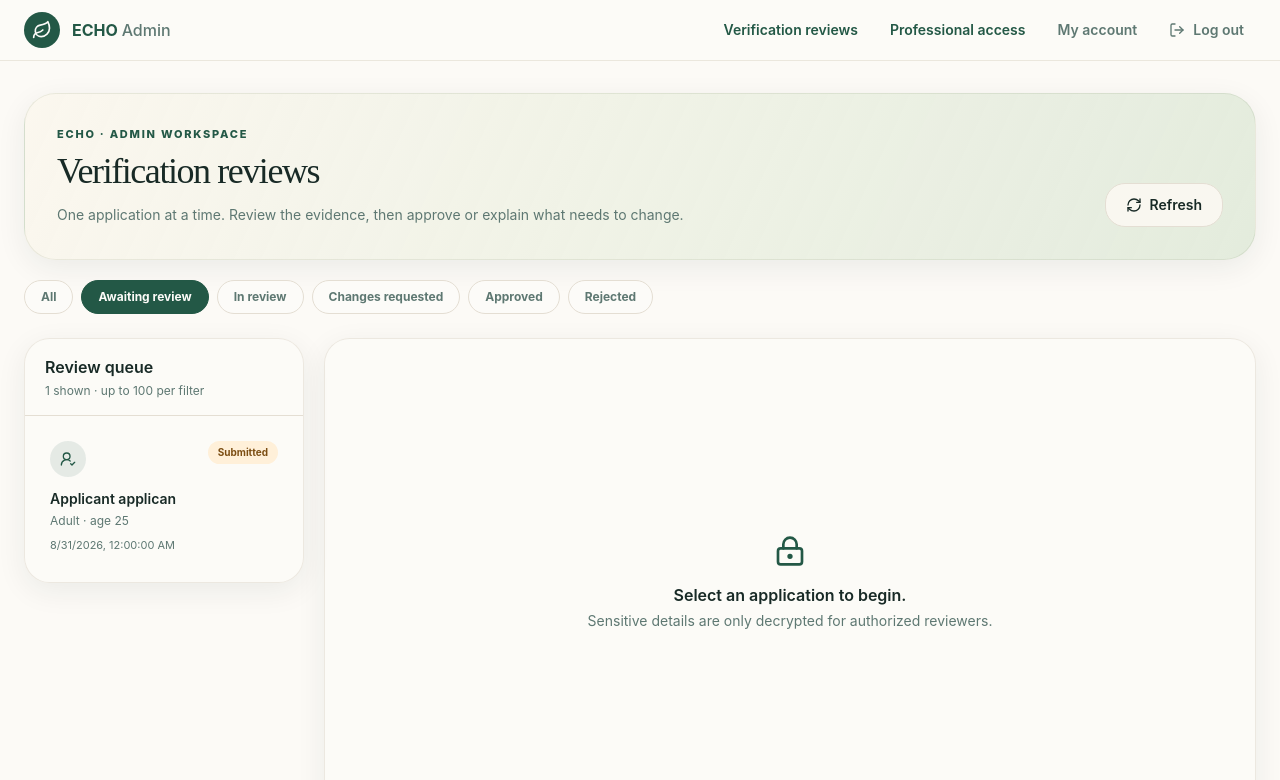
Scenario: Admin verification workspace › shows decision failures without claiming success
This screenshot has width=1280, height=780.
Click the button "Applicant applican" at (164, 497), box [33, 424, 295, 570]
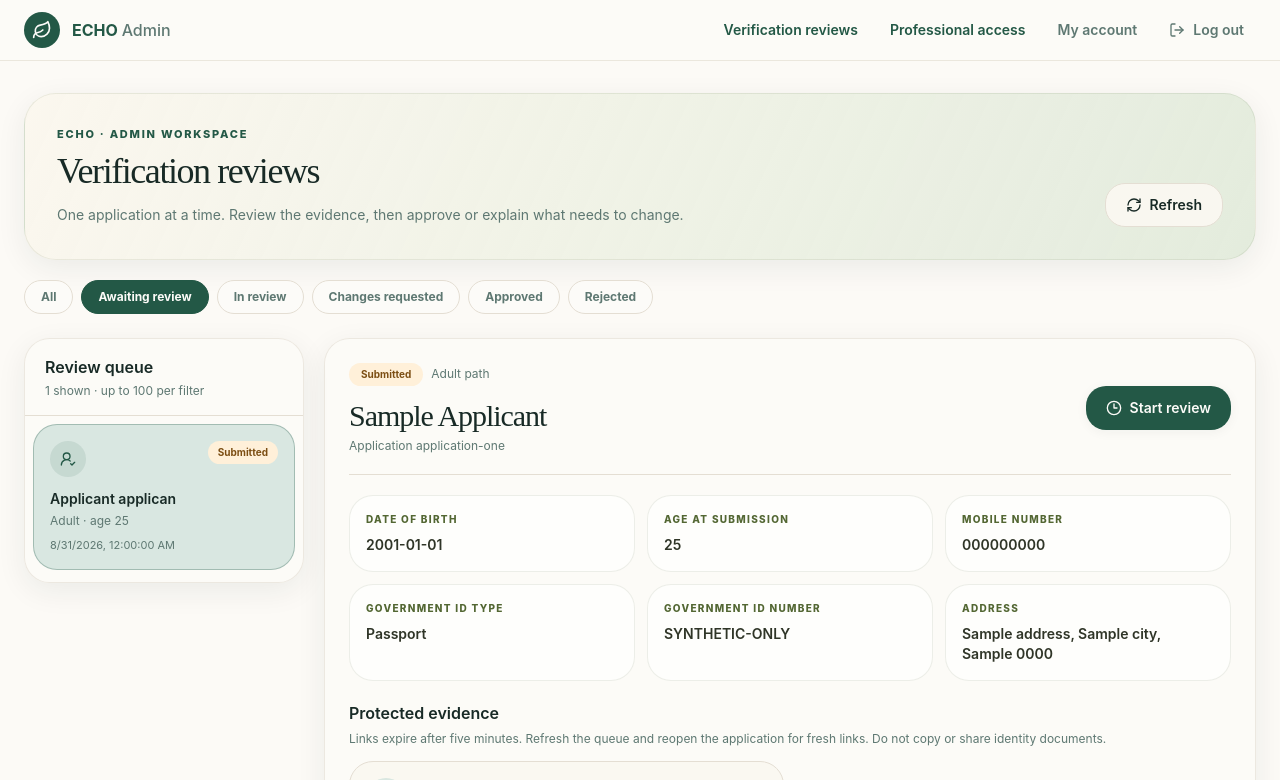
Result: the heading "Sample Applicant" is shown at [349, 398, 546, 434]
Click the button "Start review" at (1158, 408), box [1086, 386, 1231, 430]
(page scrolled)
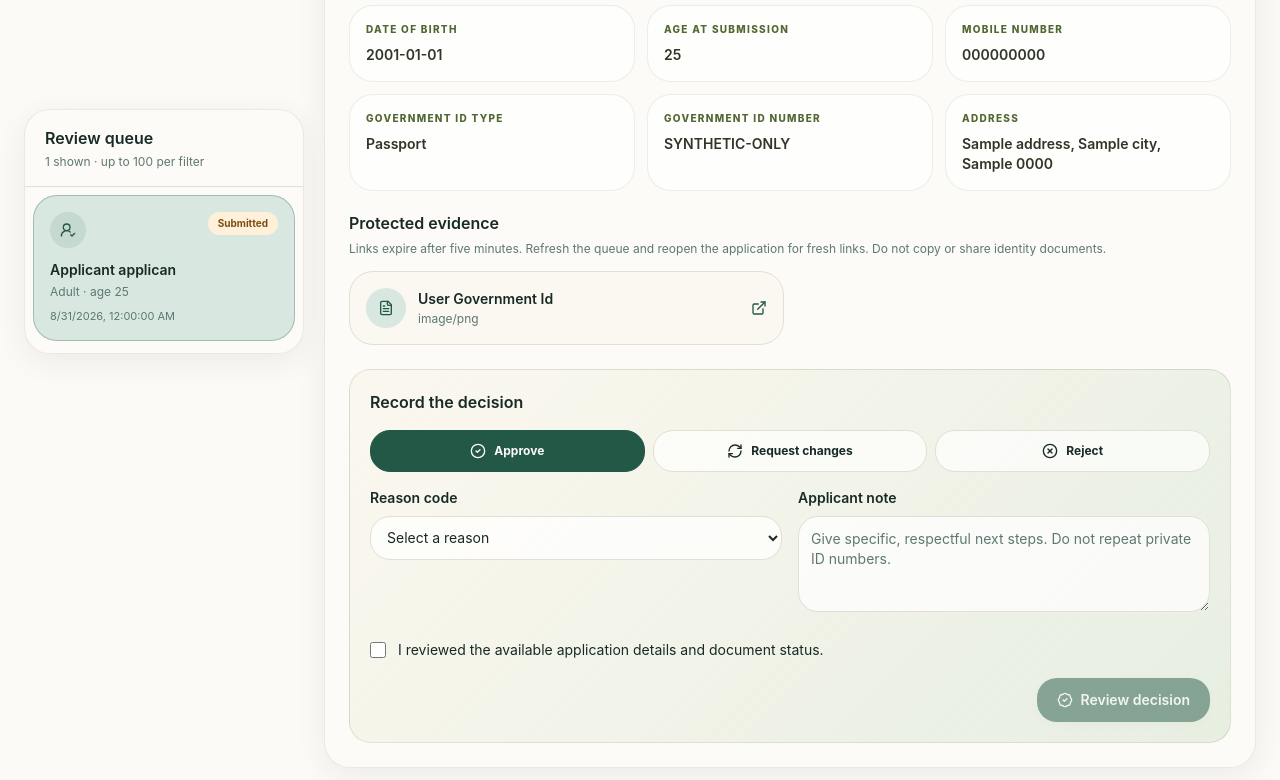
Result: the button "Review decision" is shown at [1036, 678, 1210, 722]
Click the checkbox labelled "I reviewed the available application" at (378, 650), box [370, 642, 386, 658]
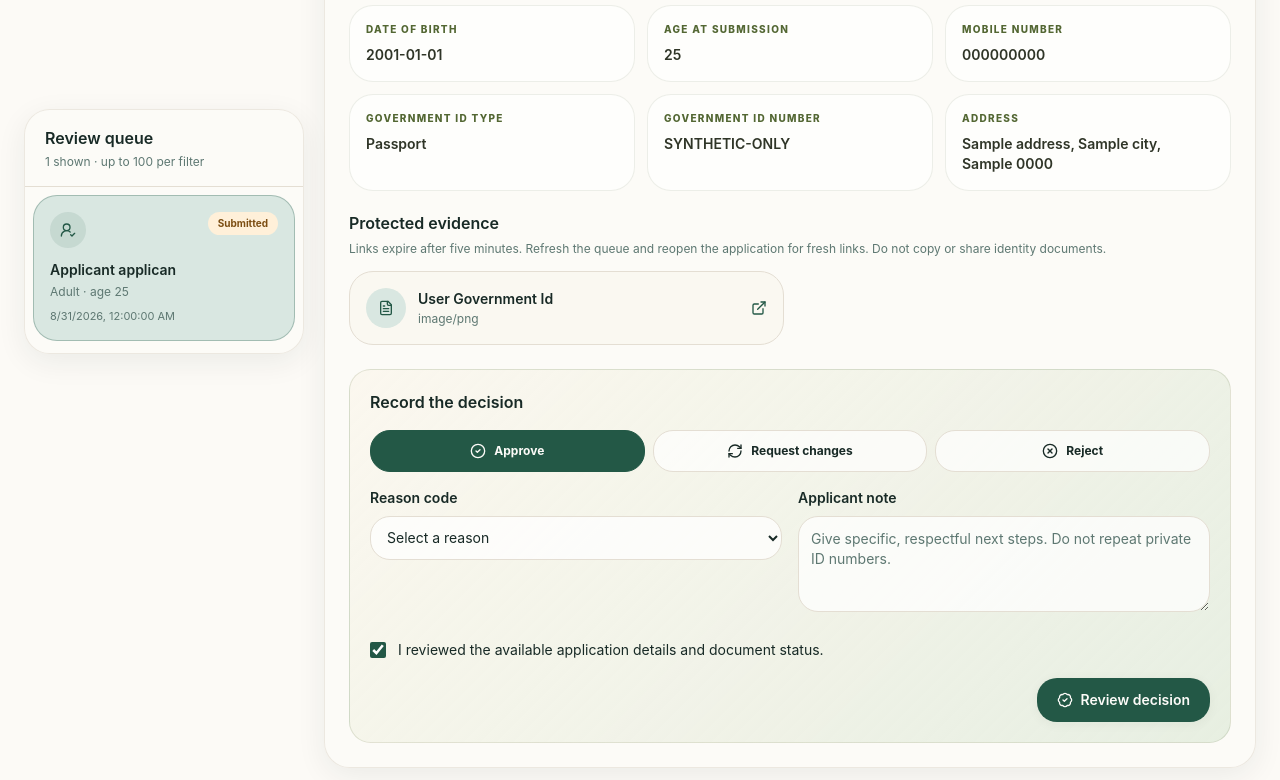
Click the button "Review decision" at (1123, 700), box [1036, 678, 1210, 722]
(page scrolled)
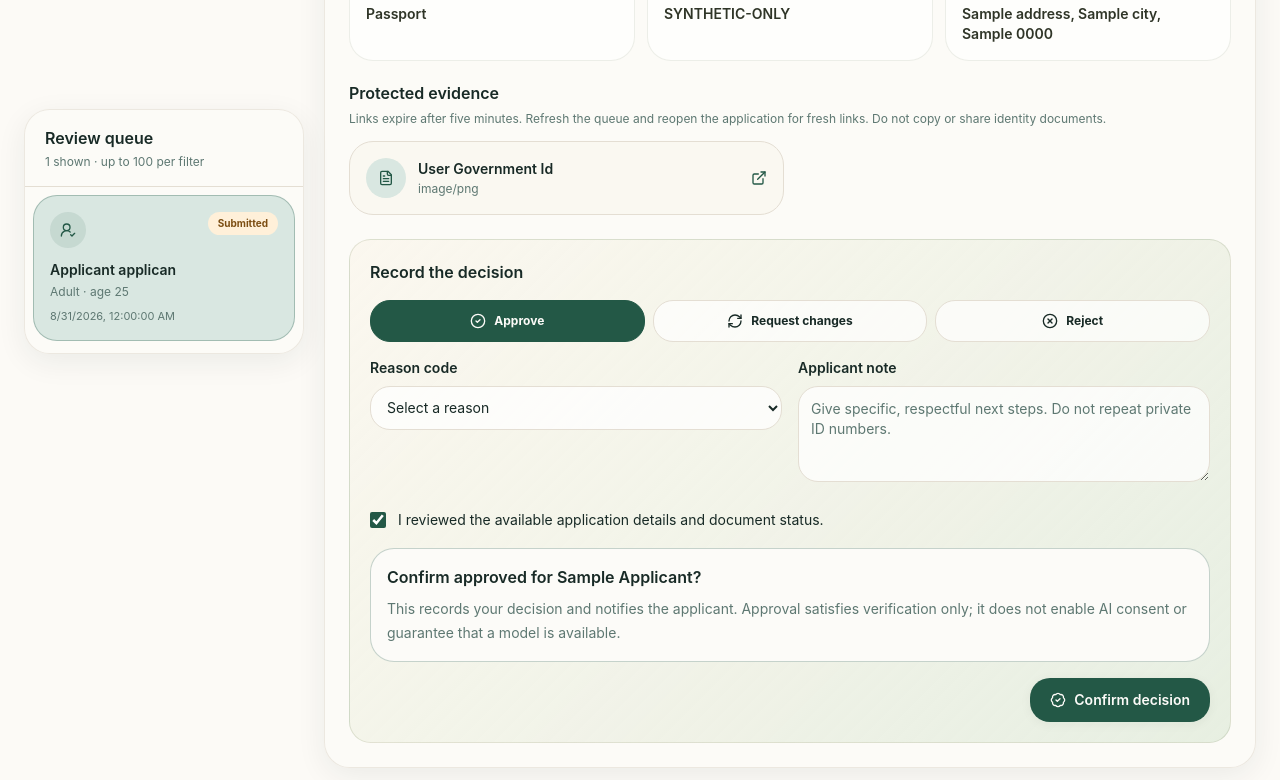
Click the button "Confirm decision" at (1120, 700), box [1030, 678, 1210, 722]
(page scrolled)
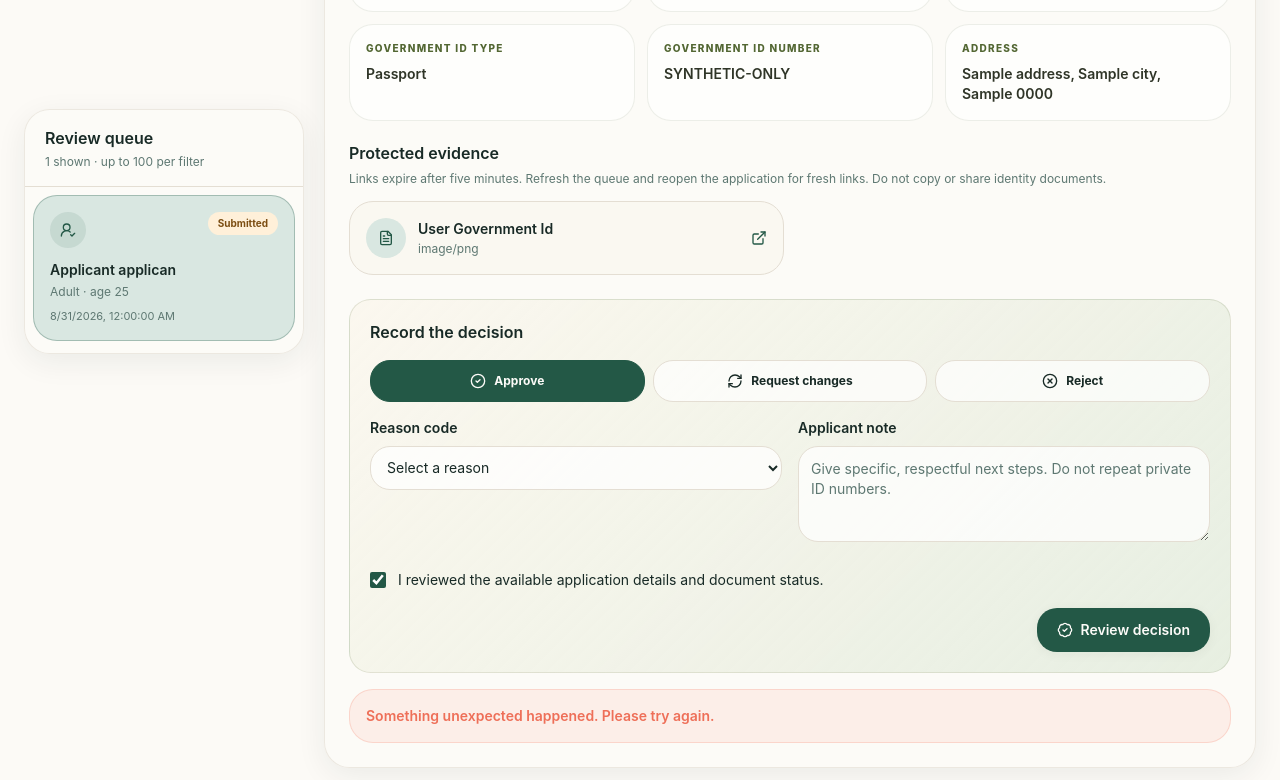
Result: the message "Something unexpected happened. Please try again." is shown at [349, 688, 1231, 742]
